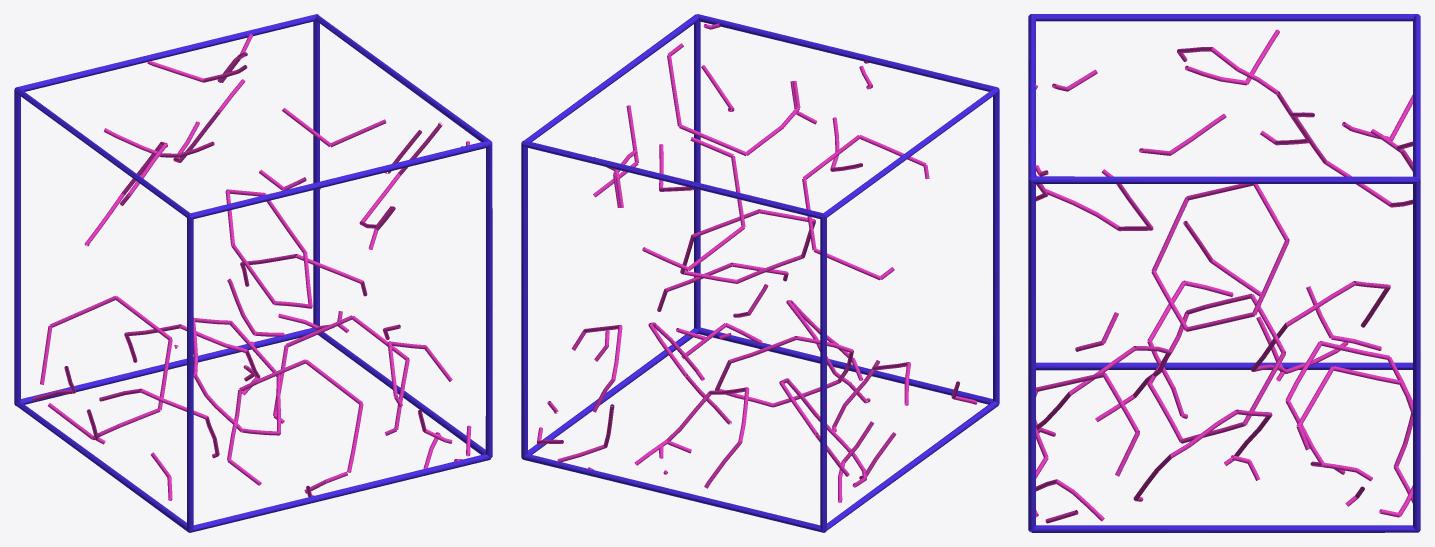
Rendered from dislocation100.glb.
The picture shows the model from 3 angles, left to right: view 1: azimuth 30°, elevation 25°; view 2: azimuth 150°, elevation 25°; view 3: azimuth 270°, elevation 25°; orthographic projection. The views are drawn at different scales.
Visible parts, largest first — view 1: Shape_IndexedLineSet, Shape_IndexedLineSet.001; view 2: Shape_IndexedLineSet, Shape_IndexedLineSet.001; view 3: Shape_IndexedLineSet.001, Shape_IndexedLineSet.
Boxes of the visible parts, x1,y1,x2,y2 form: Shape_IndexedLineSet: (14,14,492,532); Shape_IndexedLineSet.001: (32,34,471,500); Shape_IndexedLineSet: (521,14,999,532); Shape_IndexedLineSet.001: (536,23,977,502); Shape_IndexedLineSet.001: (1035,29,1413,523); Shape_IndexedLineSet: (1028,14,1420,532).
Size of the model in its own units: 1.02 by 1.02 by 1.02.
